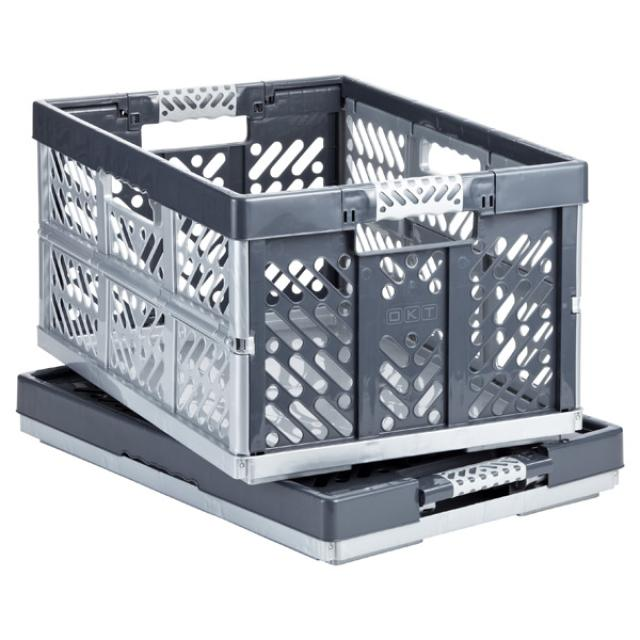basket: (20, 57, 611, 501), (4, 365, 629, 590)
